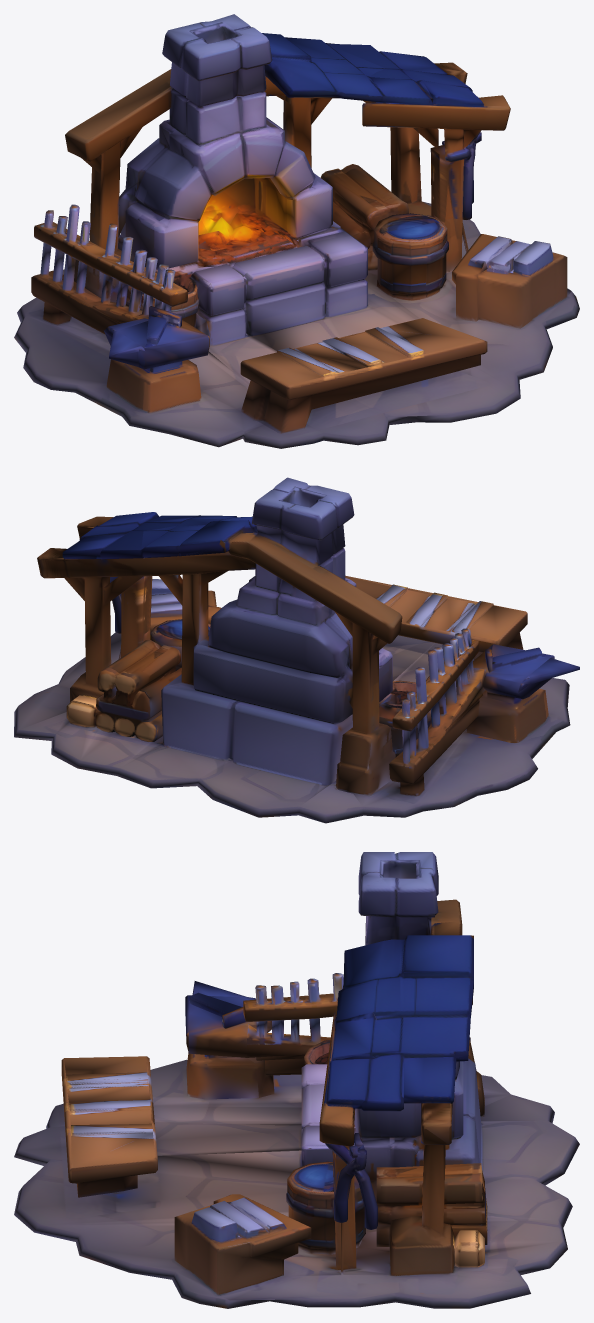
The model's file is blacksmith_forge.glb.
The picture shows the model from 3 angles, top to bottom: view 1: azimuth 30°, elevation 25°; view 2: azimuth 150°, elevation 25°; view 3: azimuth 270°, elevation 25°; orthographic projection. The views are drawn at different scales.
Parts seen in each view (by area): view 1: mesh_rep_0_ori_repair; view 2: mesh_rep_0_ori_repair; view 3: mesh_rep_0_ori_repair.
Boxes of the visible parts, box(x1,y1,x2,y2) form: mesh_rep_0_ori_repair: box(14, 14, 579, 448); mesh_rep_0_ori_repair: box(14, 477, 579, 823); mesh_rep_0_ori_repair: box(14, 852, 579, 1308).
Size of the model in its own units: 5 by 2.68 by 4.63.
1 material, 1 textured.
